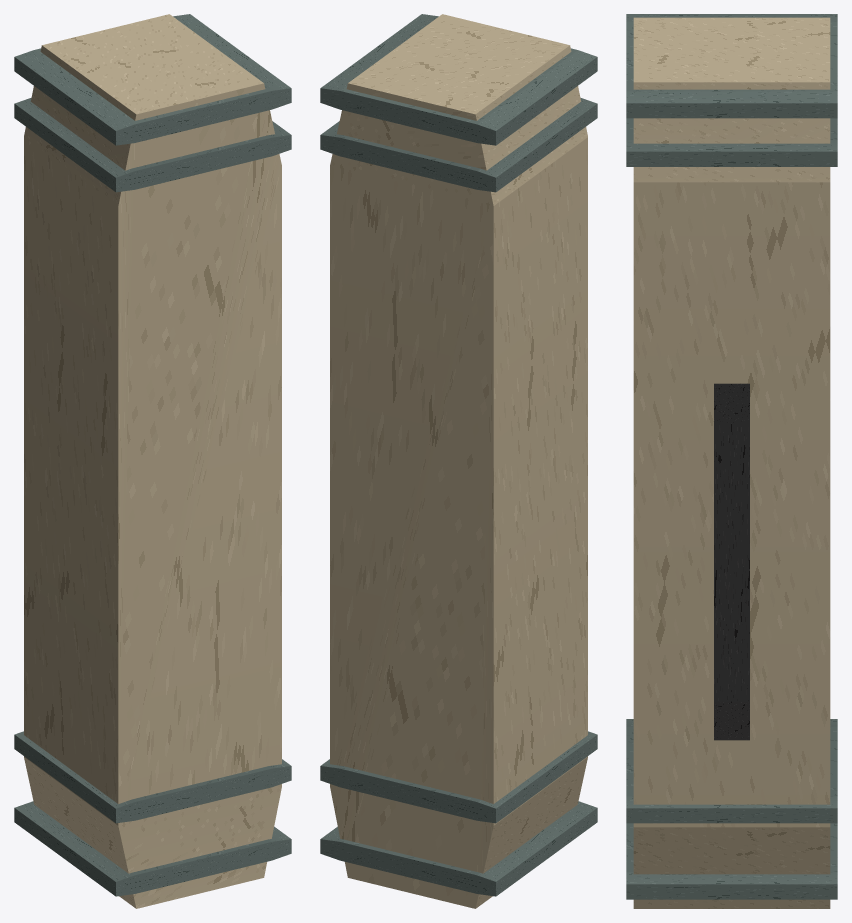
Rendered from pillar.glb.
3 views of the same model, side by side, from view 1: azimuth 30°, elevation 25°; view 2: azimuth 150°, elevation 25°; view 3: azimuth 270°, elevation 25° (orthographic). The views are drawn at different scales.
Parts seen in each view (by area): view 1: shaft, band5.0, band0.18, band4.7, band0.65; view 2: shaft, band5.0, band0.18, band4.7, band0.65; view 3: shaft, water-stain, band5.0, band0.18, band0.65, band4.7.
Part boxes in pixels (<box>): shaft: <box>24,14,281,908</box>; band5.0: <box>14,14,291,145</box>; band0.18: <box>14,801,291,896</box>; band4.7: <box>14,97,291,192</box>; band0.65: <box>14,731,291,823</box>; shaft: <box>330,14,587,908</box>; band5.0: <box>320,14,597,145</box>; band0.18: <box>320,801,597,896</box>; band4.7: <box>320,97,597,192</box>; band0.65: <box>320,731,597,823</box>; shaft: <box>633,17,830,908</box>; water-stain: <box>714,383,749,740</box>; band5.0: <box>626,14,837,118</box>; band0.18: <box>626,823,837,899</box>; band0.65: <box>626,719,837,823</box>; band4.7: <box>626,118,837,166</box>.
Bounding box in the file's own units: 1.18 × 5.1 × 1.18.
Materials: 1 (1 with a texture image).
